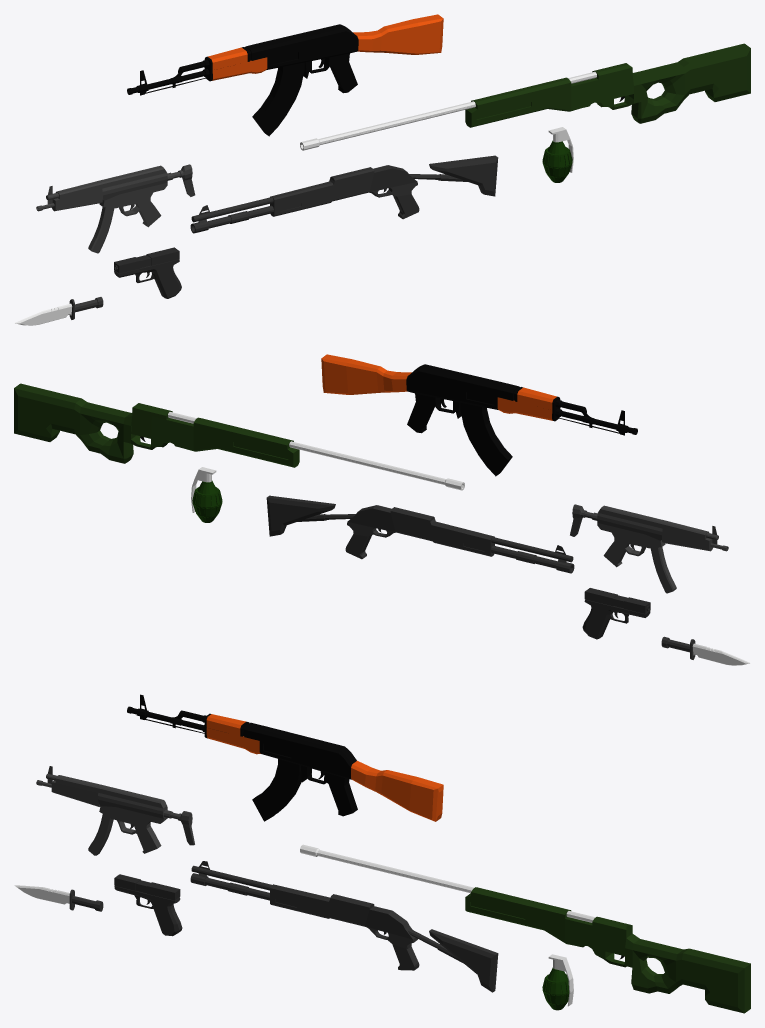
Rendered from low_poly_weapon_pack.glb.
3 views of the same model, one above another, from view 1: azimuth 30°, elevation 25°; view 2: azimuth 150°, elevation 25°; view 3: azimuth 330°, elevation 25° (orthographic).
Visible parts, largest first — view 1: AWM_2, Handle_0, Shot-Gun_9, SMG-Body_3, Pistol_5, Magzine_1, Knife_6, Grenade-Body_7, SMG-Magazine_4; view 2: AWM_2, Handle_0, Shot-Gun_9, SMG-Body_3, Pistol_5, Magzine_1, Knife_6, Grenade-Body_7, SMG-Magazine_4; view 3: AWM_2, Handle_0, Shot-Gun_9, SMG-Body_3, Pistol_5, Magzine_1, Knife_6, Grenade-Body_7.
Boxes of the visible parts, x1,y1,x2,y2 form: AWM_2: (300, 43, 750, 150); Handle_0: (127, 14, 443, 95); Shot-Gun_9: (190, 155, 498, 233); SMG-Body_3: (36, 164, 195, 227); Pistol_5: (114, 247, 181, 298); Magzine_1: (252, 62, 304, 136); Knife_6: (14, 297, 103, 325); Grenade-Body_7: (542, 140, 572, 182); SMG-Magazine_4: (88, 207, 114, 253); AWM_2: (14, 383, 464, 490); Handle_0: (321, 354, 637, 435); Shot-Gun_9: (266, 495, 574, 573); SMG-Body_3: (570, 504, 728, 567); Pistol_5: (582, 588, 650, 639); Magzine_1: (460, 402, 512, 476); Knife_6: (661, 636, 750, 665); Grenade-Body_7: (192, 480, 222, 522); SMG-Magazine_4: (650, 547, 676, 593); AWM_2: (300, 844, 750, 1013); Handle_0: (127, 694, 443, 821); Shot-Gun_9: (190, 861, 498, 992); SMG-Body_3: (36, 766, 194, 853); Pistol_5: (114, 874, 182, 936); Magzine_1: (252, 759, 301, 821); Knife_6: (14, 885, 103, 911); Grenade-Body_7: (542, 967, 569, 1010).
Bounding box in the file's own units: 10.76 × 3.27 × 0.3843.
